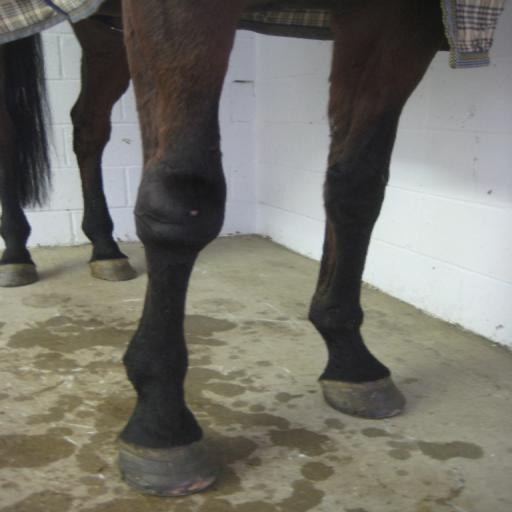horse: (0, 0, 443, 497), (0, 0, 440, 498)
